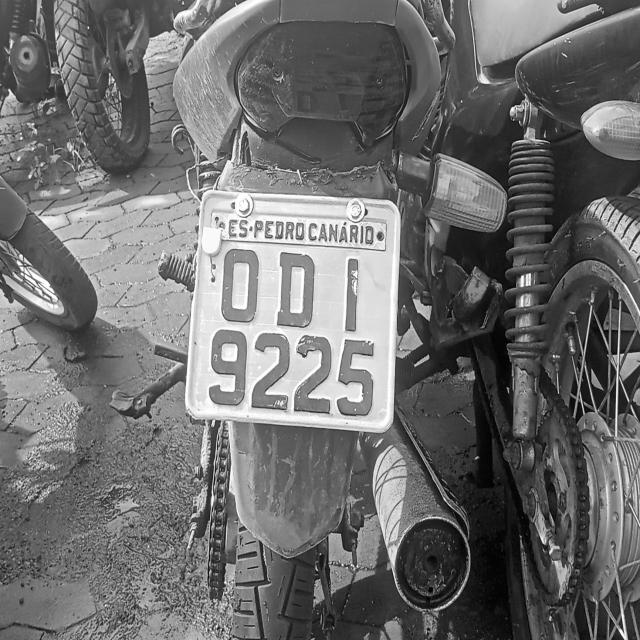Caractere: (219, 247, 260, 326), (276, 250, 316, 329), (337, 336, 375, 419), (294, 333, 331, 418), (209, 328, 248, 408), (252, 330, 290, 412), (343, 256, 360, 334)
Placa: (184, 190, 402, 434)
